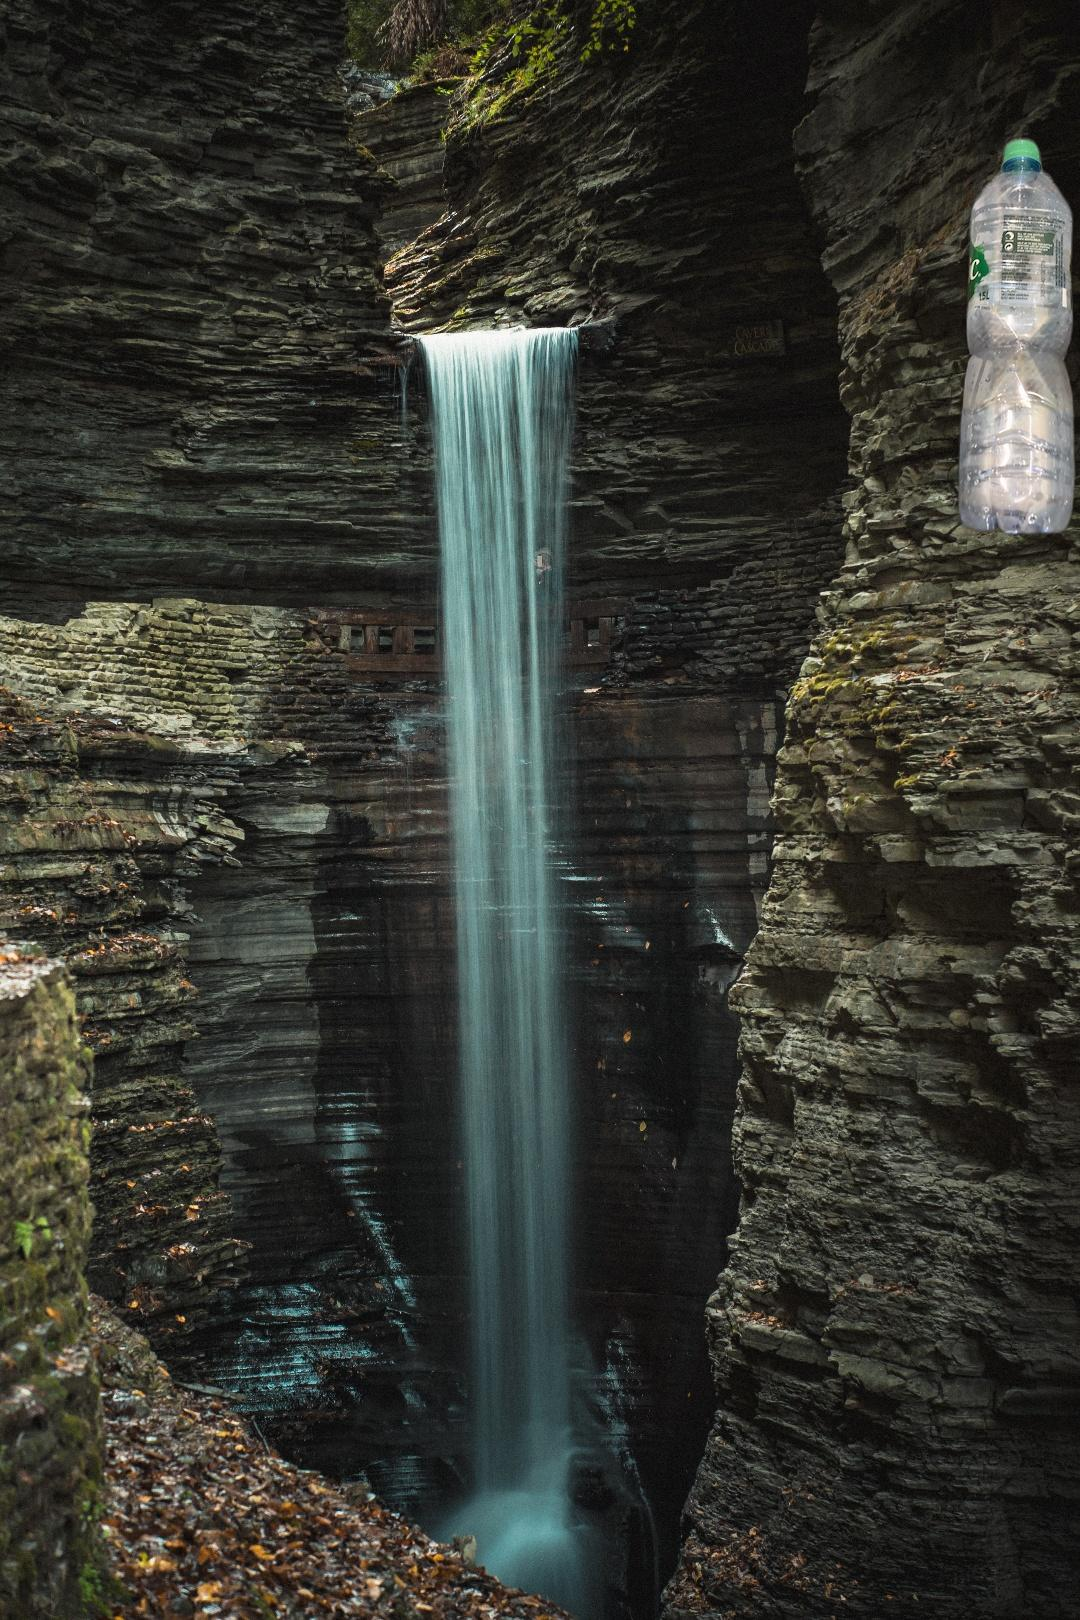plastic-bottles: (953, 133, 1080, 540)
